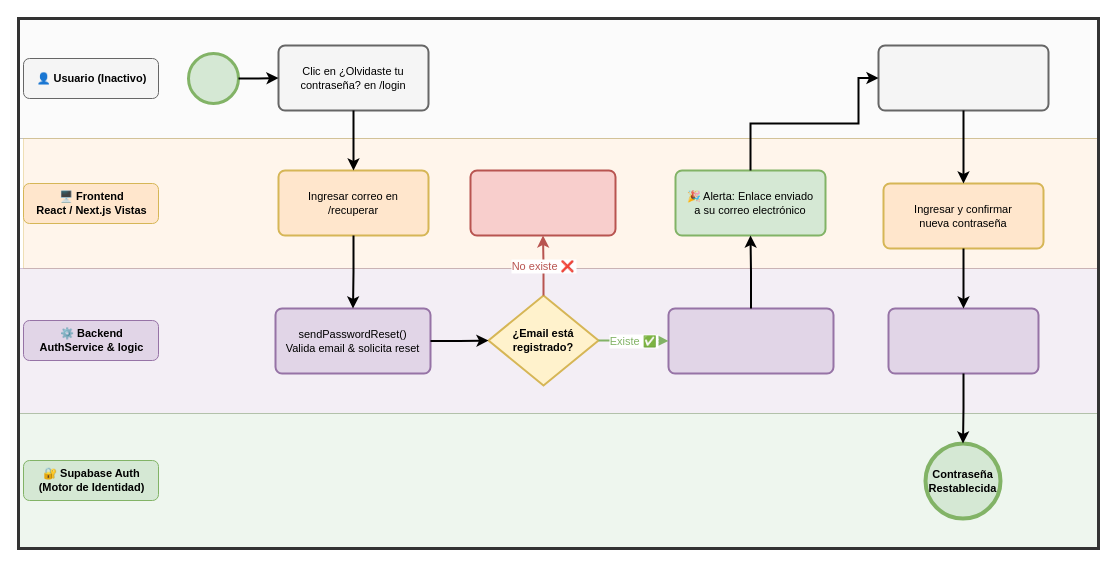
Some shapes in this 1117 by 567 pixel diagram are drawn without their labels. The centre of each missing label's shape, as x and y in pixels:
"Inicio" belongs at (x=213, y=78).
"updateUserPassword() Guarda clave en Auth" belongs at (x=963, y=340).
"Usuario hace clic en enlace y carga /reset-password" belongs at (x=963, y=77).
"⚠️ Alerta: Correo no registrado en el sistema" belongs at (x=542, y=202).
"✉️ Enviar correo con token de restablecimiento" belongs at (x=750, y=340).
